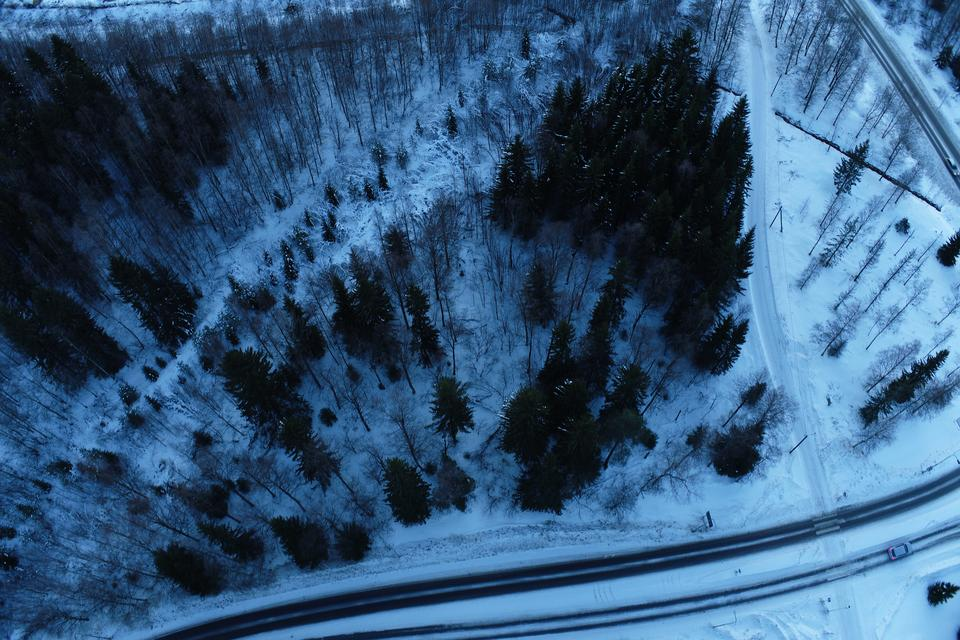intersection: (793, 499, 875, 599)
